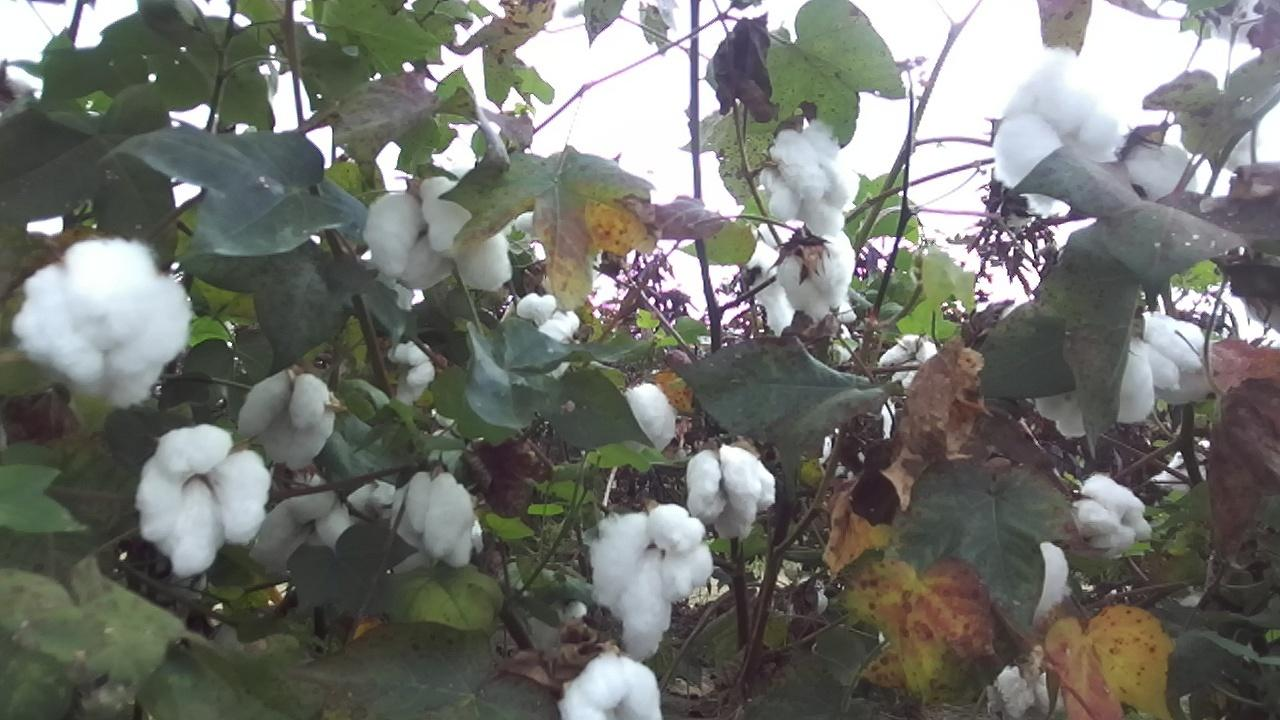cotton_ready: (12, 239, 189, 411), (1037, 307, 1212, 441), (135, 423, 272, 580), (992, 47, 1112, 211), (591, 502, 712, 660), (364, 175, 512, 295), (252, 475, 395, 578), (236, 364, 339, 475), (758, 120, 855, 234), (388, 470, 479, 574), (685, 444, 778, 543), (774, 224, 854, 330), (1106, 130, 1204, 205), (1067, 474, 1152, 558), (560, 657, 664, 720), (1017, 539, 1074, 632), (625, 382, 681, 457)
